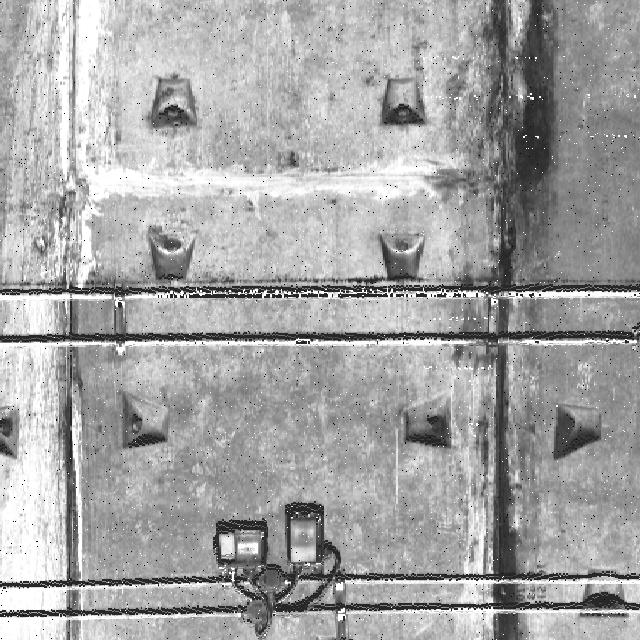leakage: (453, 0, 576, 634)
